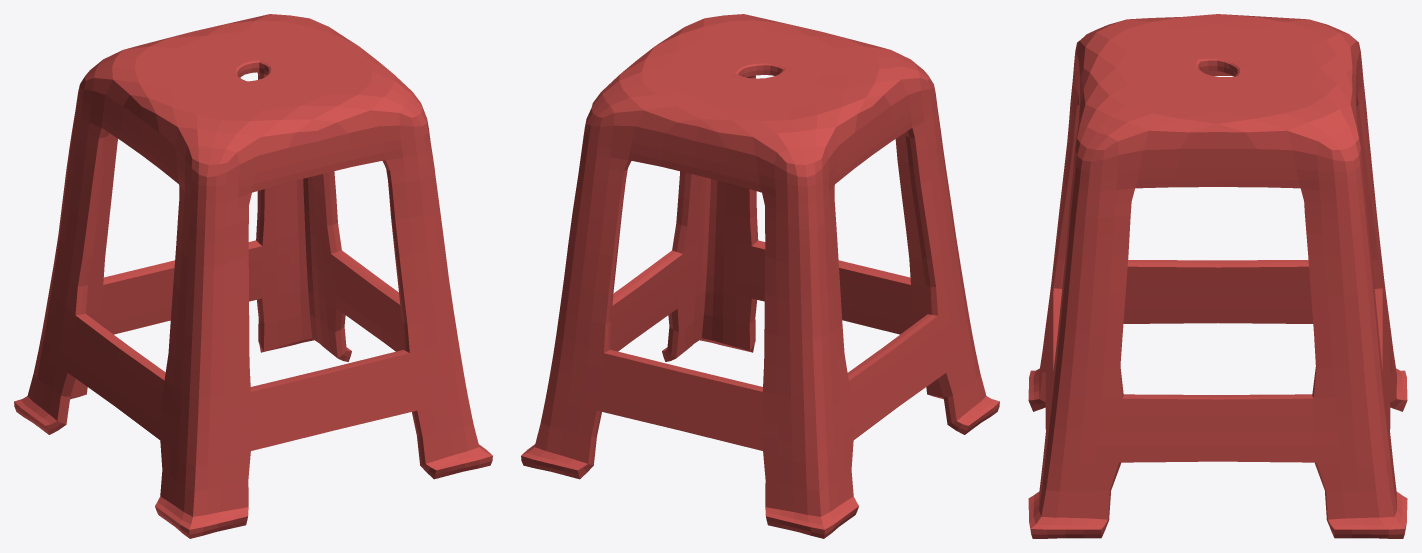
File: chair.obj
The picture shows the model from 3 angles, left to right: view 1: azimuth 30°, elevation 25°; view 2: azimuth 150°, elevation 25°; view 3: azimuth 270°, elevation 25°; orthographic projection. The views are drawn at different scales.
Visible parts, largest first — view 1: Cube.007_Cube.002; view 2: Cube.007_Cube.002; view 3: Cube.007_Cube.002.
Boxes of the visible parts, x1,y1,x2,y2 form: Cube.007_Cube.002: (14, 14, 492, 538); Cube.007_Cube.002: (521, 14, 999, 538); Cube.007_Cube.002: (1028, 14, 1407, 538).
Size of the model in its own units: 2.47 by 2.84 by 2.48.
